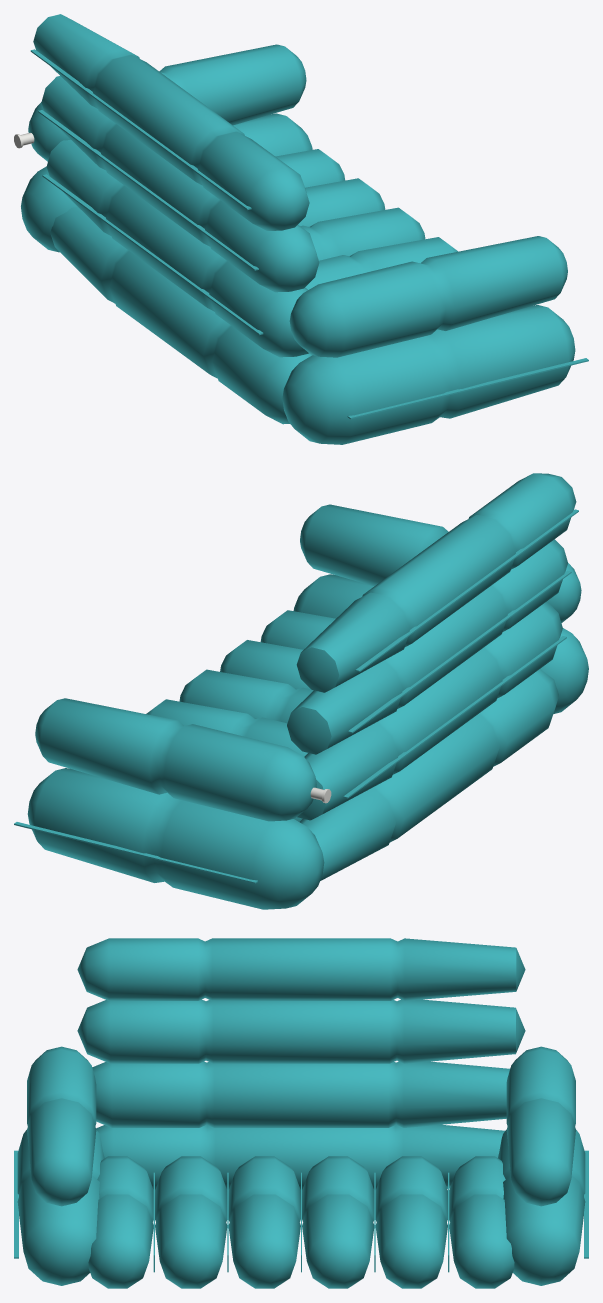
The model's file is inflatable-couch.glb.
3 renders of one model, top to bottom at view 1: azimuth 30°, elevation 25°; view 2: azimuth 150°, elevation 25°; view 3: azimuth 270°, elevation 25°, orthographic. The views are drawn at different scales.
Visible parts, largest first — view 1: SM_Jam_InflatableCouch; view 2: SM_Jam_InflatableCouch; view 3: SM_Jam_InflatableCouch.
Boxes of the visible parts, bbox=[...] form: SM_Jam_InflatableCouch: bbox=[14, 14, 588, 444]; SM_Jam_InflatableCouch: bbox=[14, 473, 588, 909]; SM_Jam_InflatableCouch: bbox=[14, 938, 588, 1288].
Bounding box in the file's own units: 1.01 × 0.8351 × 1.82.
